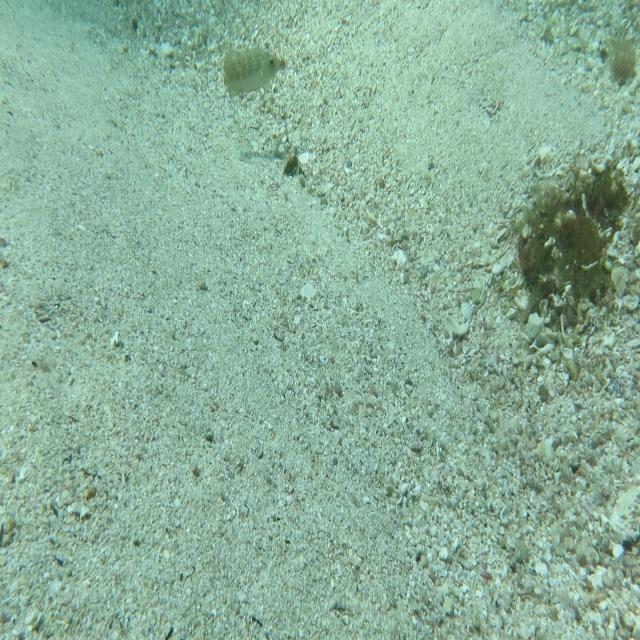AM: (222, 43, 281, 102)
core_nest: (580, 170, 616, 206)
nest: (512, 151, 626, 341)
nest_material: (280, 55, 287, 73)
vegetation: (602, 30, 638, 94), (284, 154, 300, 180)
